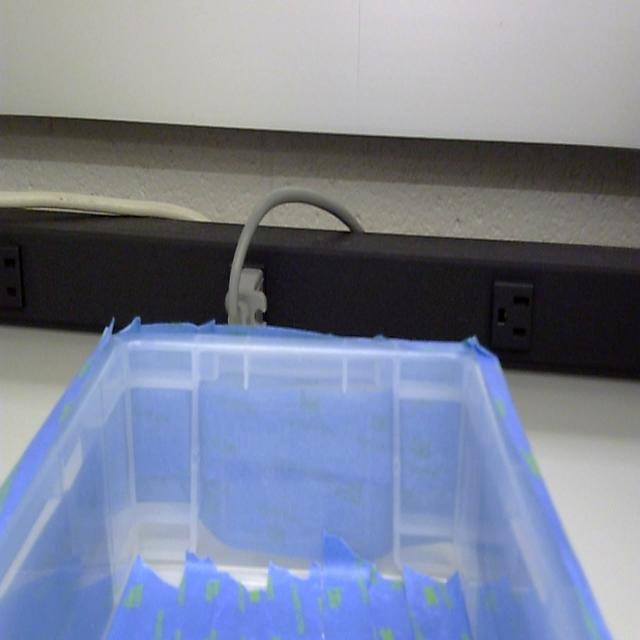bucket: (0, 320, 616, 640)
